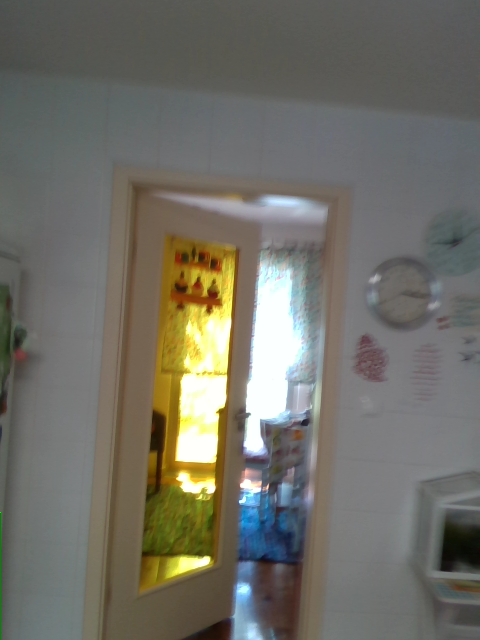semi: (87, 164, 352, 639)
